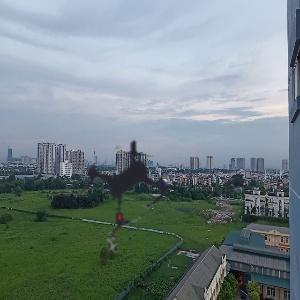drone: (26, 84, 222, 280)
